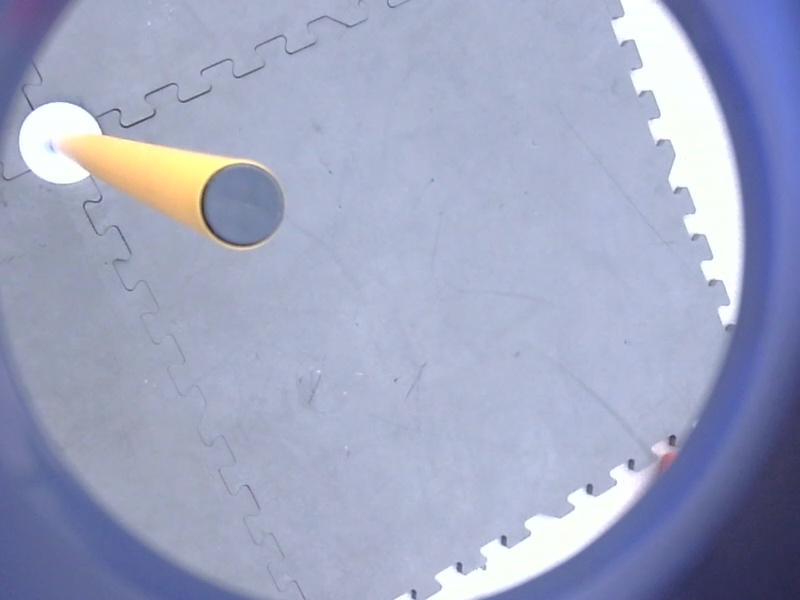tip: (194, 153, 291, 257)
